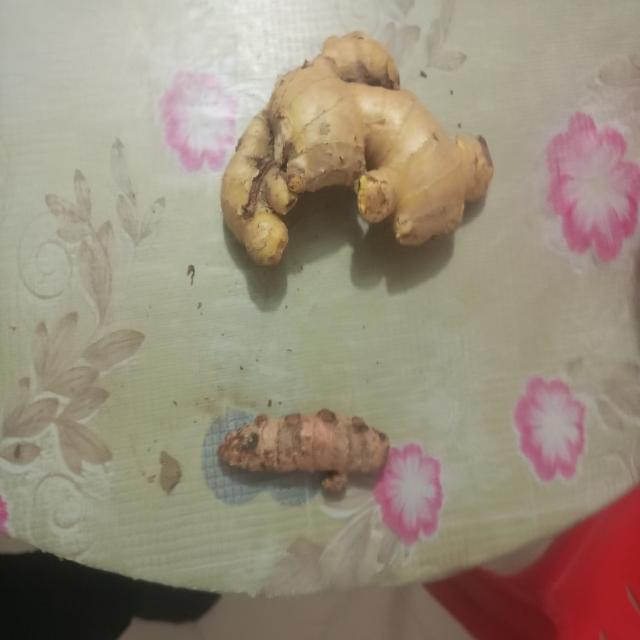ginger: (228, 39, 491, 267), (222, 412, 388, 494)
